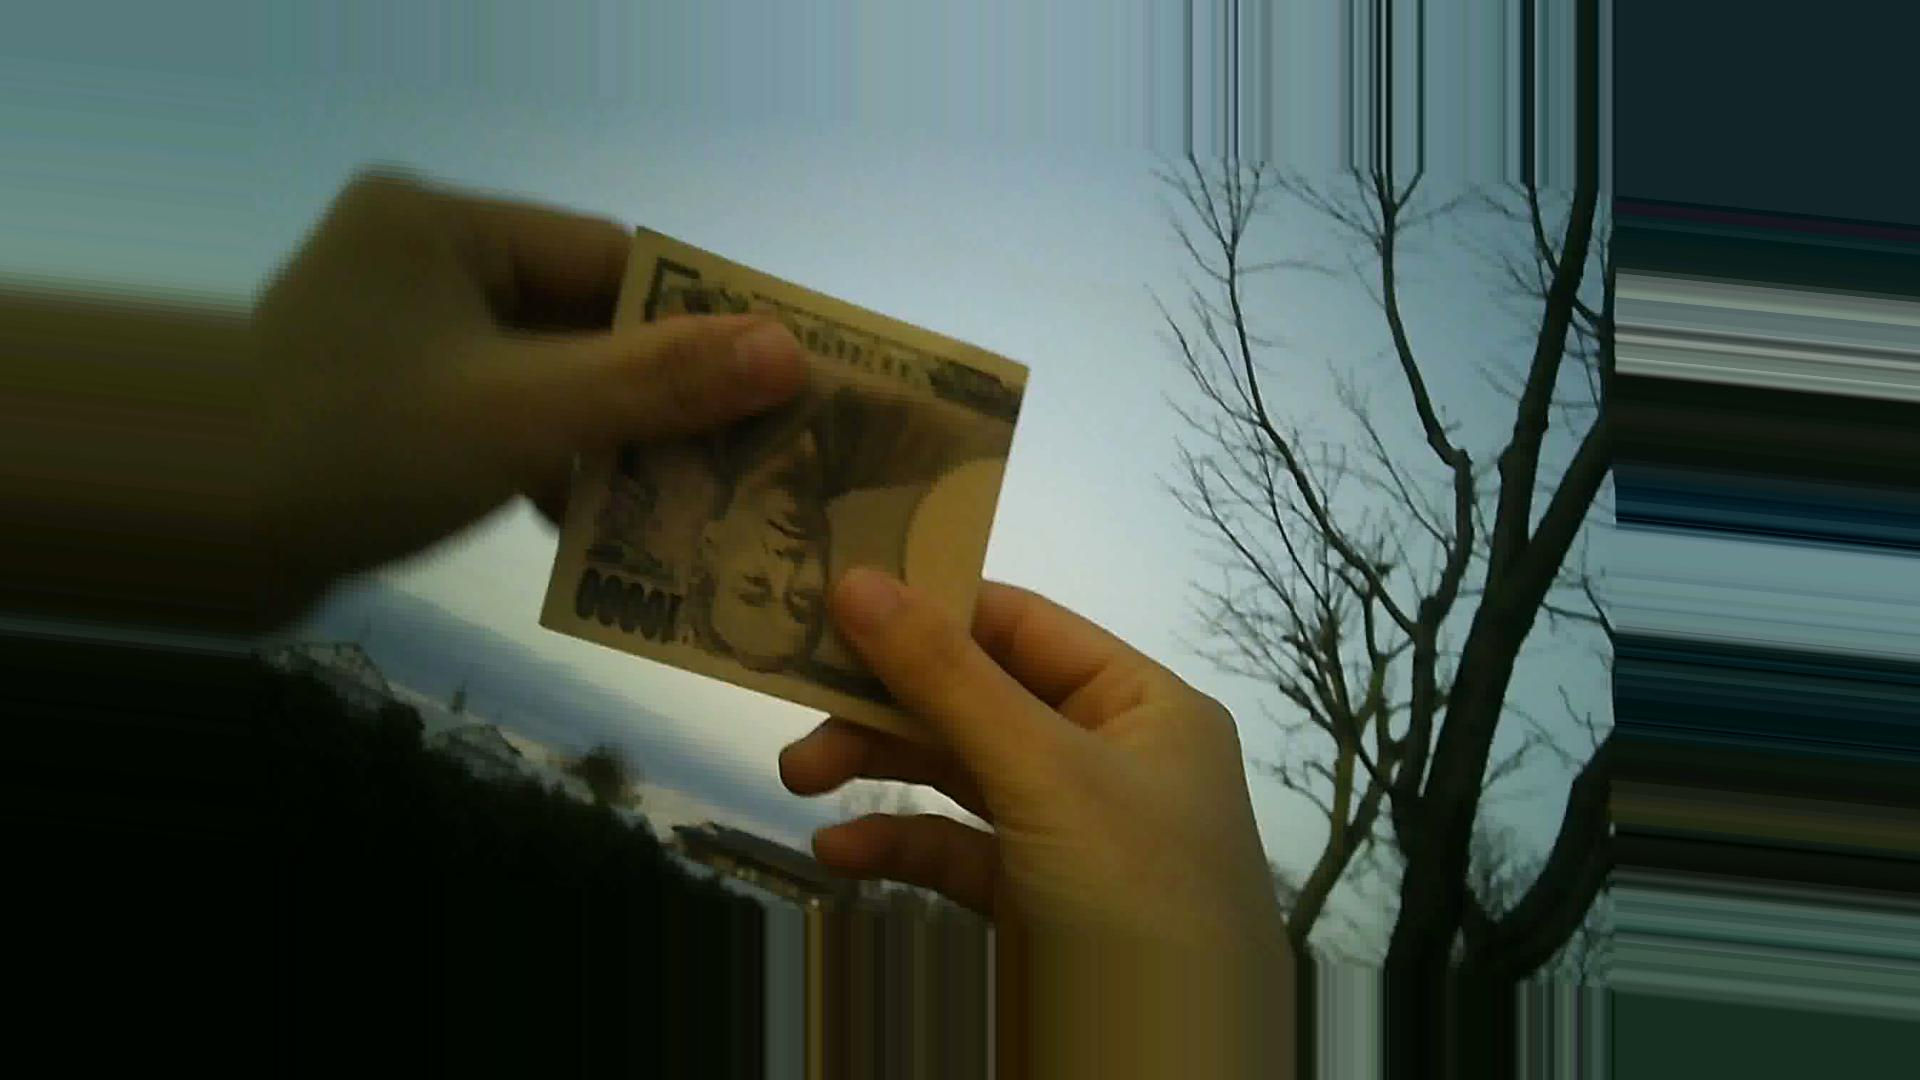10,000 Yen: (529, 228, 1018, 731)
